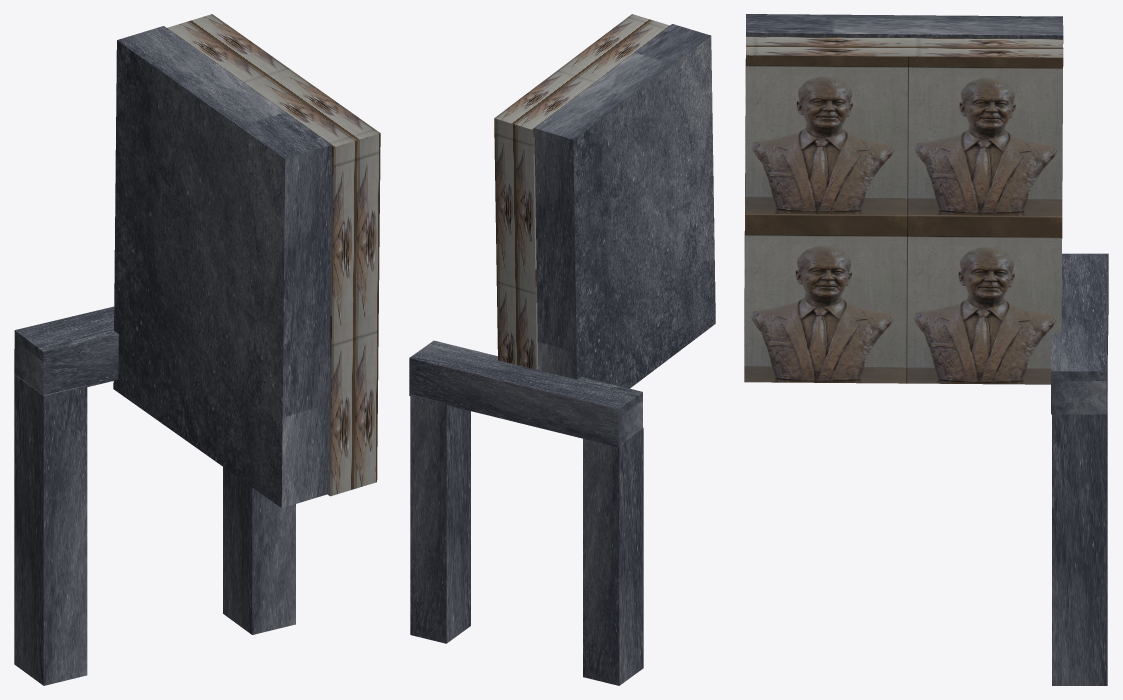
The model's file is Estatua.obj.
3 views of the same model, side by side, from view 1: azimuth 30°, elevation 25°; view 2: azimuth 150°, elevation 25°; view 3: azimuth 270°, elevation 25° (orthographic). The views are drawn at different scales.
Visible parts, largest first — view 1: Cube.004, Cube, Cube.002, Cube.001, Cube.003; view 2: Cube.004, Cube, Cube.002, Cube.001, Cube.003; view 3: Cube, Cube.001, Cube.003, Cube.004.
Part boxes in pixels (bbox=[...]): Cube.004: bbox=[113, 26, 331, 507]; Cube: bbox=[167, 14, 380, 496]; Cube.002: bbox=[14, 374, 87, 685]; Cube.001: bbox=[223, 467, 295, 634]; Cube.003: bbox=[14, 306, 118, 395]; Cube.004: bbox=[534, 24, 715, 388]; Cube: bbox=[494, 14, 669, 369]; Cube.002: bbox=[583, 427, 643, 685]; Cube.001: bbox=[410, 394, 470, 643]; Cube.003: bbox=[409, 340, 642, 447]; Cube: bbox=[744, 36, 1063, 384]; Cube.001: bbox=[1052, 391, 1107, 685]; Cube.003: bbox=[1051, 253, 1108, 414]; Cube.004: bbox=[744, 14, 1063, 310].
Size of the model in its own units: 1.39 by 3.29 by 1.83.
Materials: 4 (4 with a texture image).
